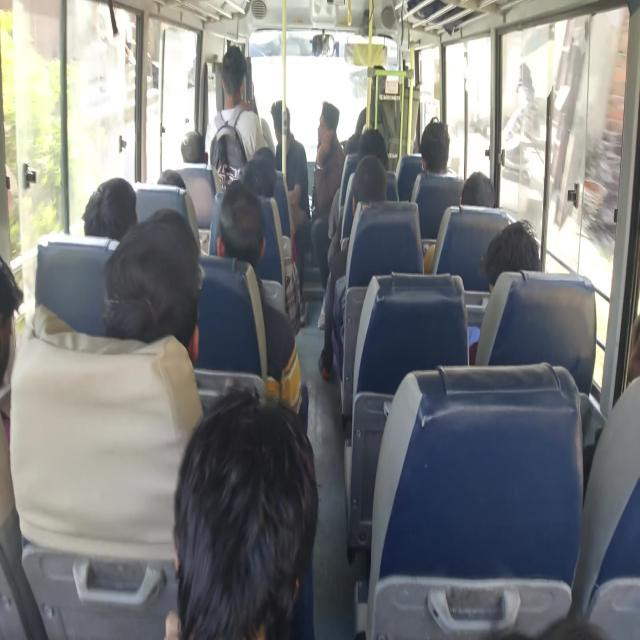person: (149, 391, 266, 592), (120, 210, 206, 356), (79, 186, 154, 238), (618, 296, 640, 442), (493, 221, 538, 291), (221, 188, 260, 251), (424, 128, 460, 196), (355, 154, 390, 223), (464, 175, 504, 232), (219, 56, 252, 114), (0, 275, 20, 356), (242, 160, 279, 202), (157, 160, 192, 198), (275, 89, 301, 140), (318, 104, 348, 145), (181, 126, 210, 163), (418, 125, 441, 161), (370, 118, 386, 166), (251, 136, 271, 163)
